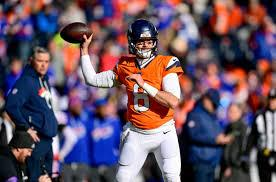americanFootball: (60, 22, 94, 45)
